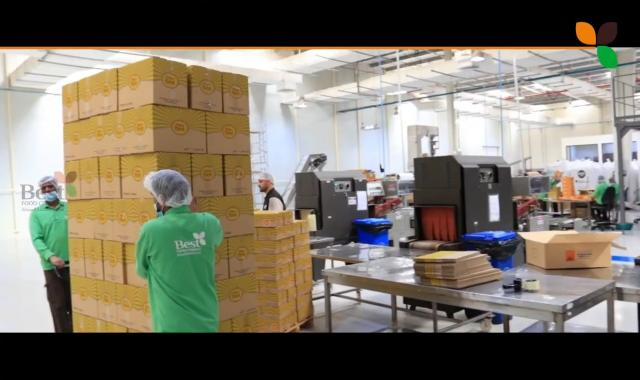hairnet: (146, 170, 192, 206), (37, 176, 58, 188), (256, 171, 274, 185)
